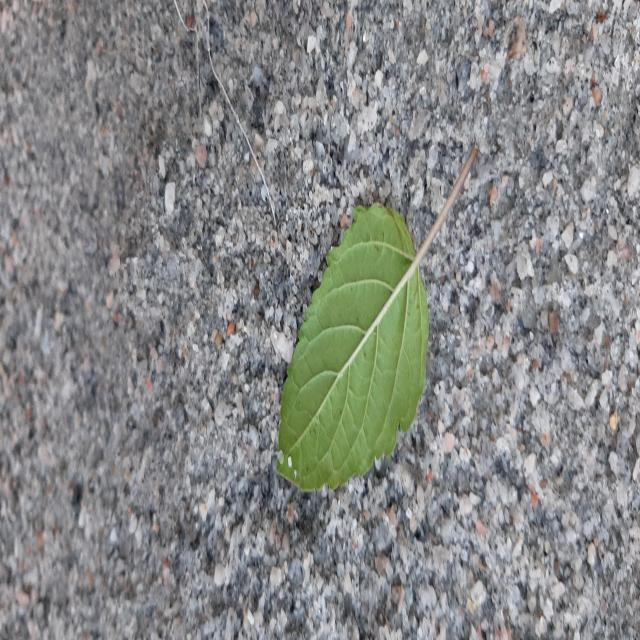tulsi: (278, 198, 451, 490)
